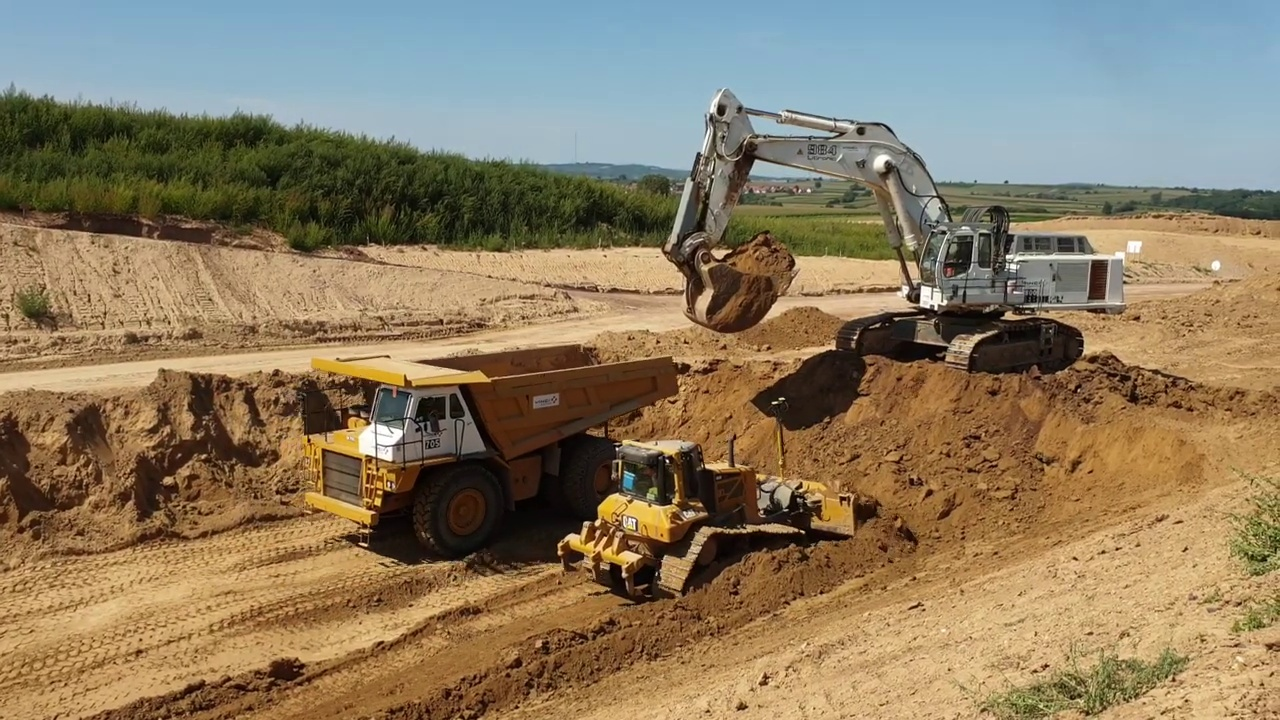bulldozer: (553, 396, 873, 603)
excavator: (660, 81, 1132, 378)
truck: (297, 341, 685, 562)
